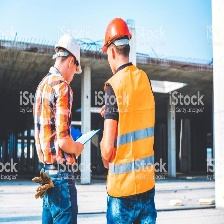helmet: (53, 33, 84, 76), (101, 19, 132, 56)
no-vest: (37, 72, 76, 175)
person: (99, 17, 161, 224), (33, 33, 84, 224)
vest: (107, 65, 160, 195)
